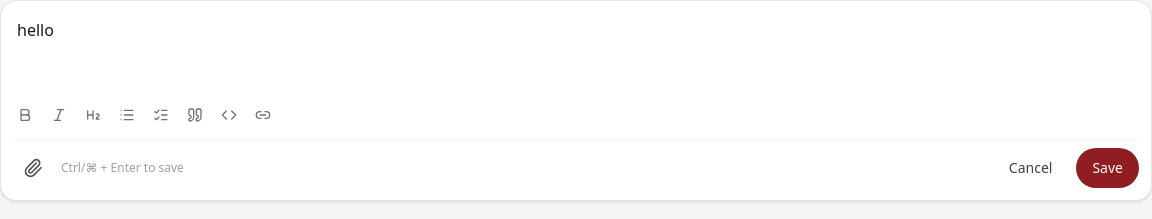
Composer › closes the suggestions with Esc, and a tap on one puts it in
This screenshot has width=1152, height=219.
Type " #ga" into the text box named "Edit note" at (576, 56), box [13, 13, 1139, 99]
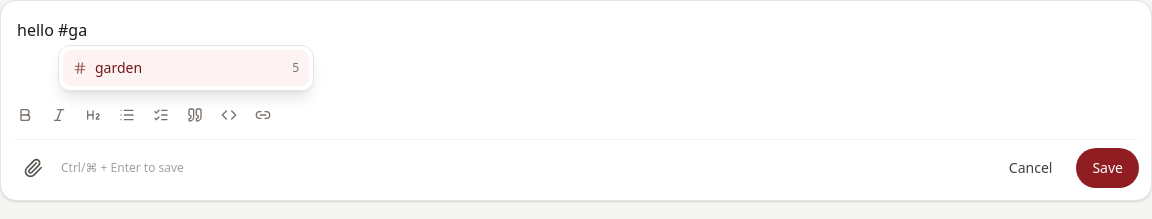
Result: the list named "Tag suggestions" is shown at [58, 45, 314, 91]
Press Escape
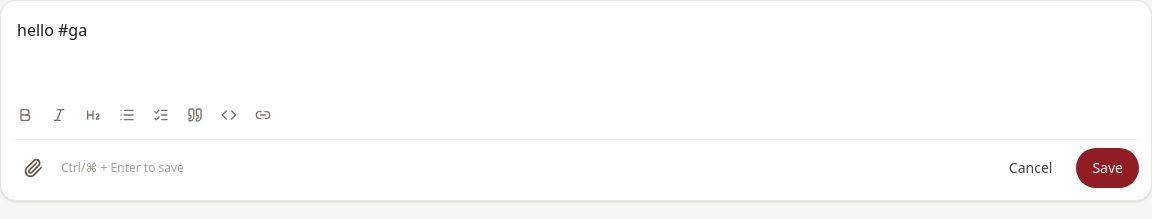
Result: the list is gone
Type " #g" into the text box named "Edit note" at (576, 56), box [13, 13, 1139, 99]
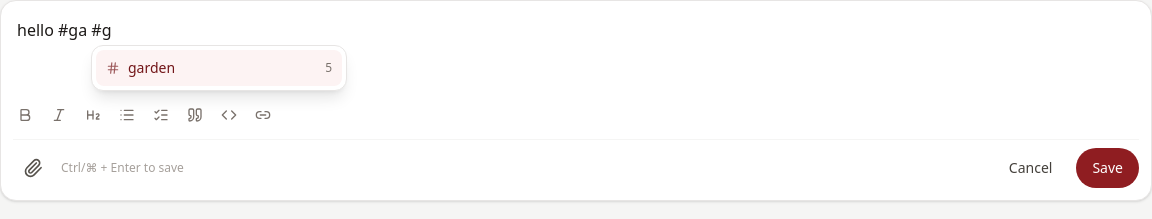
Click the option "garden 5" at (219, 68), box [96, 50, 342, 86]
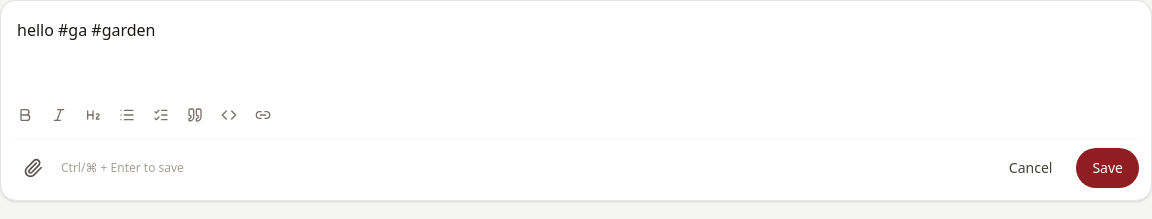
Result: the text box named "Edit note" holds "hello #ga #garden " at [13, 13, 1139, 99]
